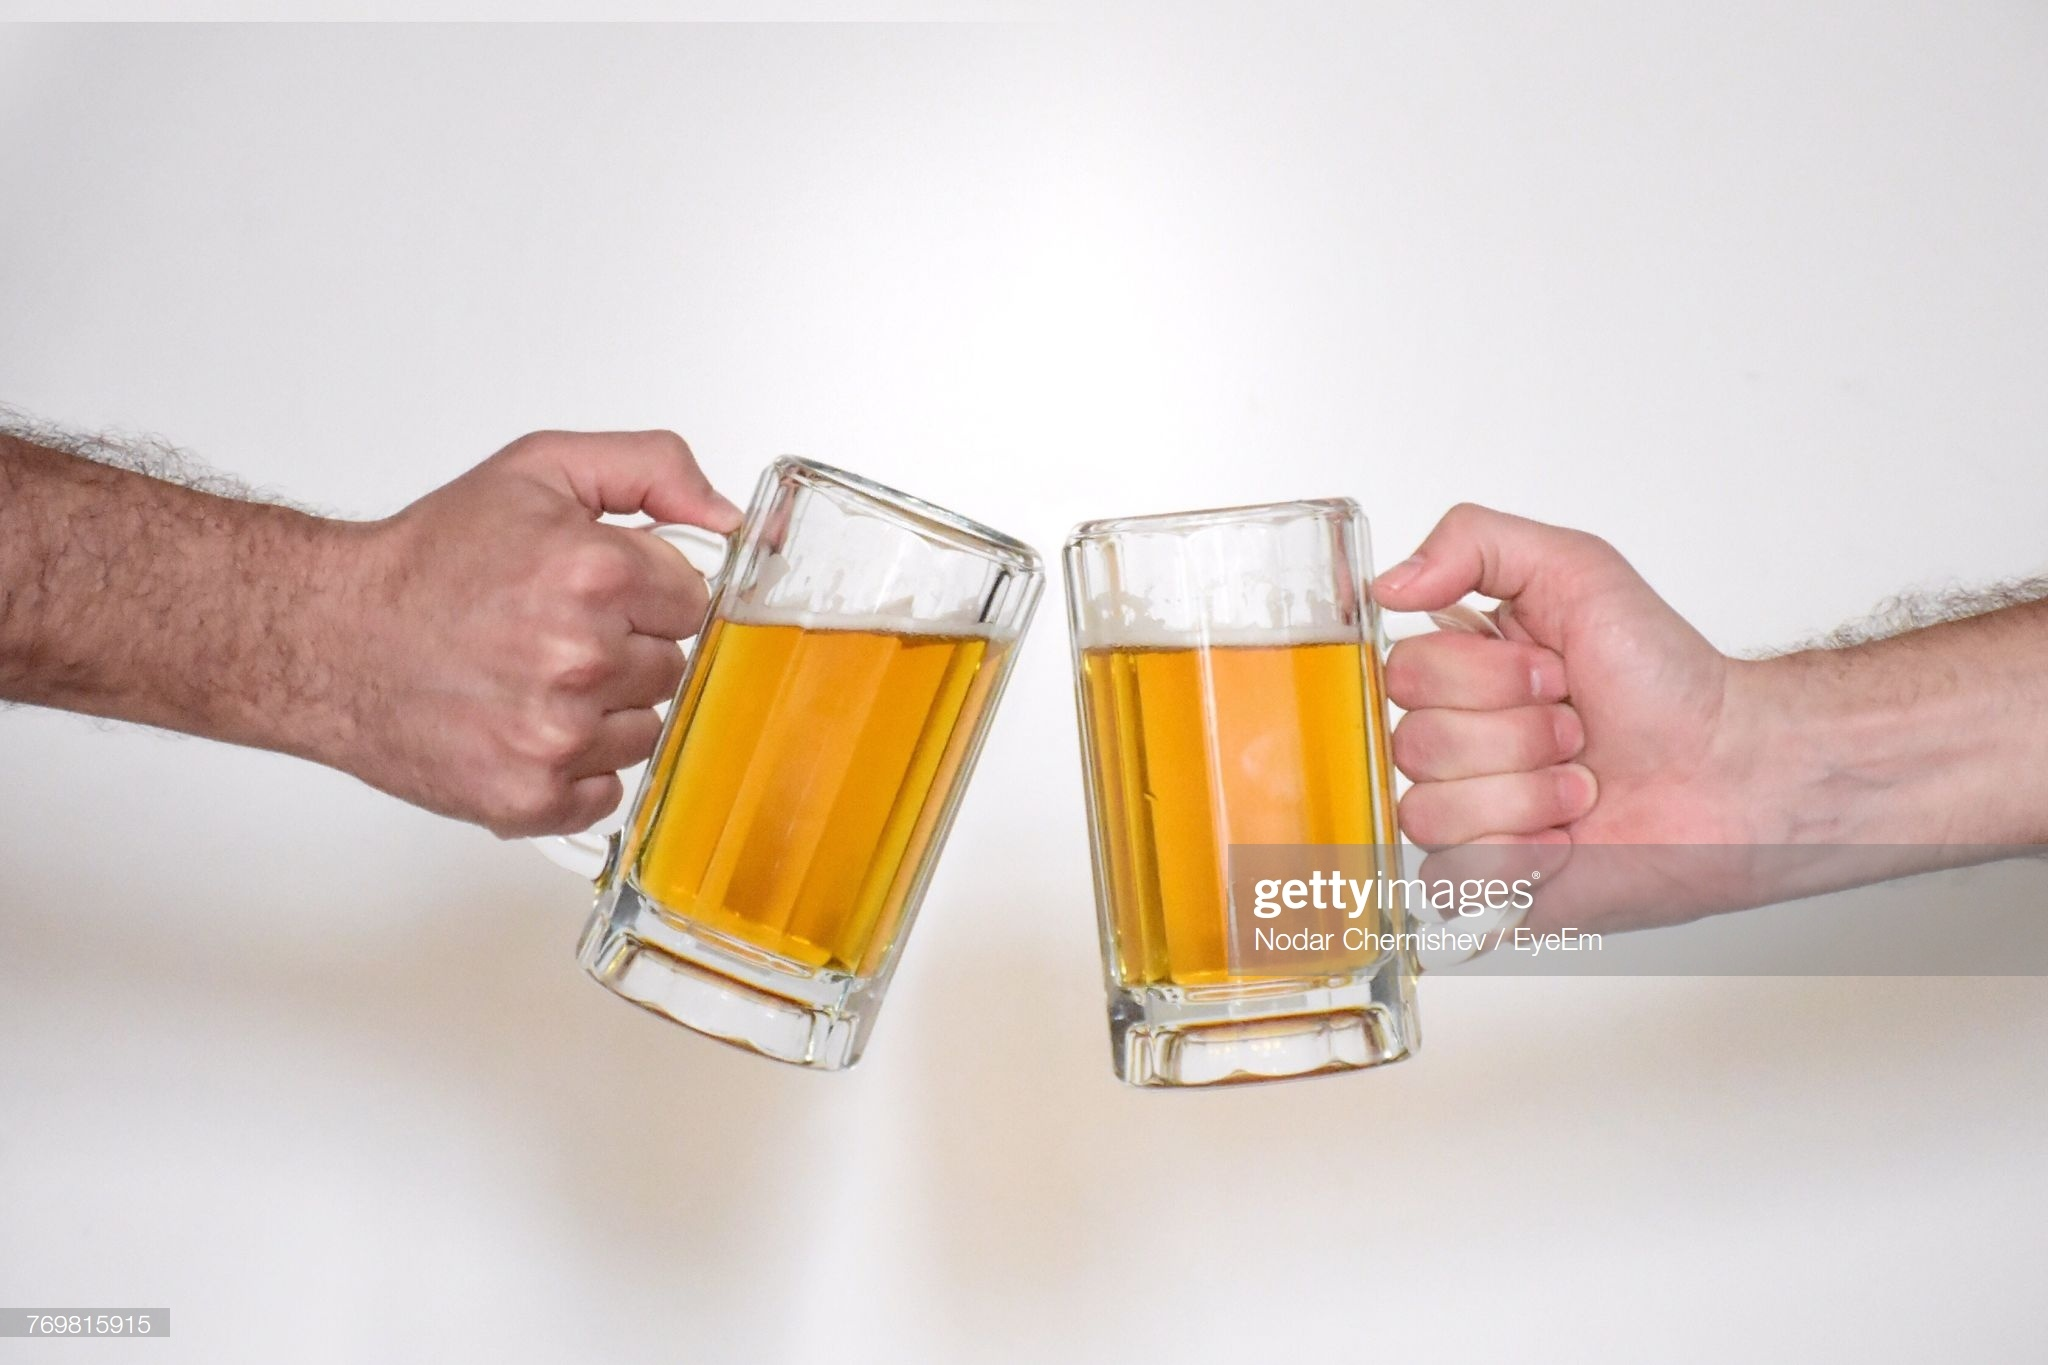glassBeer: (608, 468, 1032, 1053), (1069, 500, 1451, 1071)
